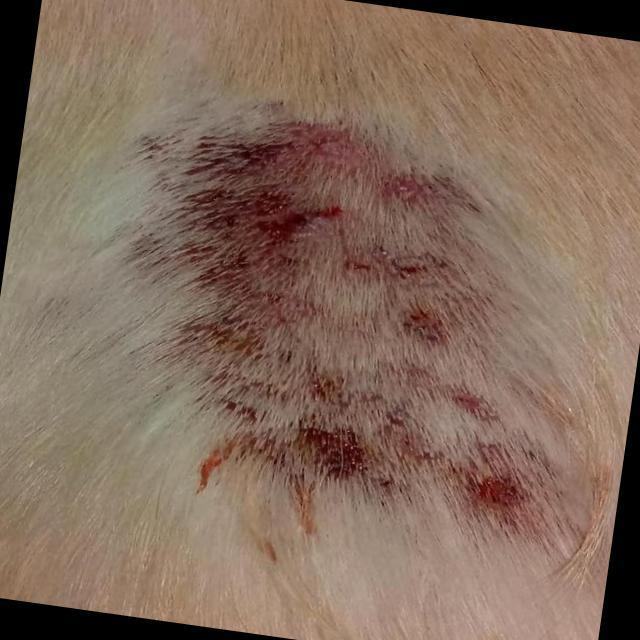allergic dermatitis: (145, 112, 565, 553)
